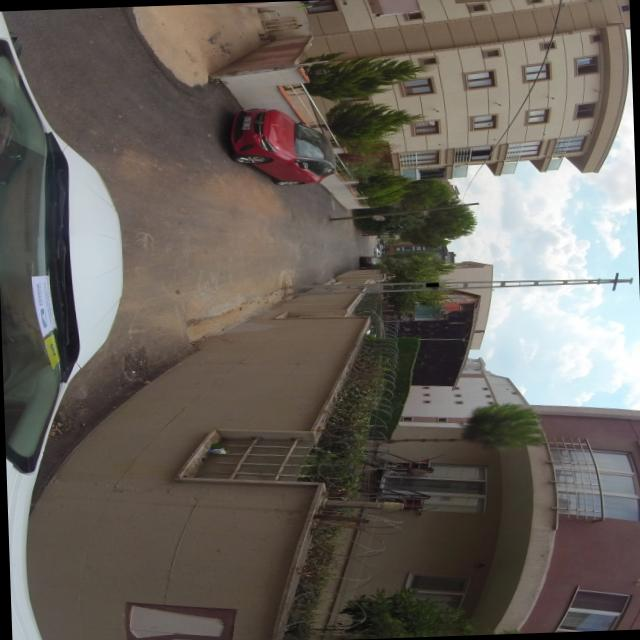Utility Pole Information Plate: (425, 283, 438, 287)
